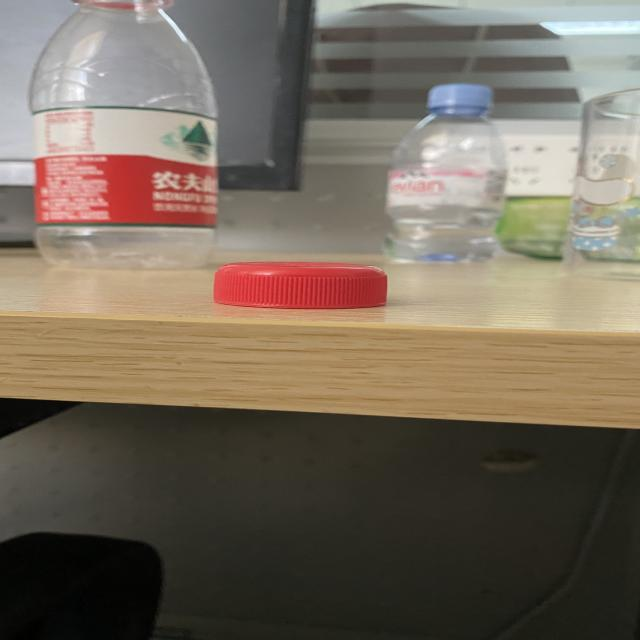Anorganik: (24, 0, 246, 281), (399, 78, 501, 273), (543, 78, 640, 277)
